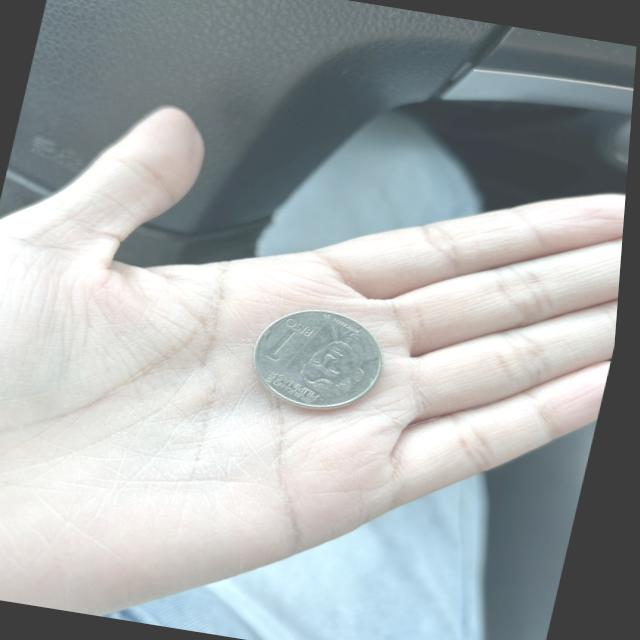1_New_Front: (266, 310, 317, 370)
